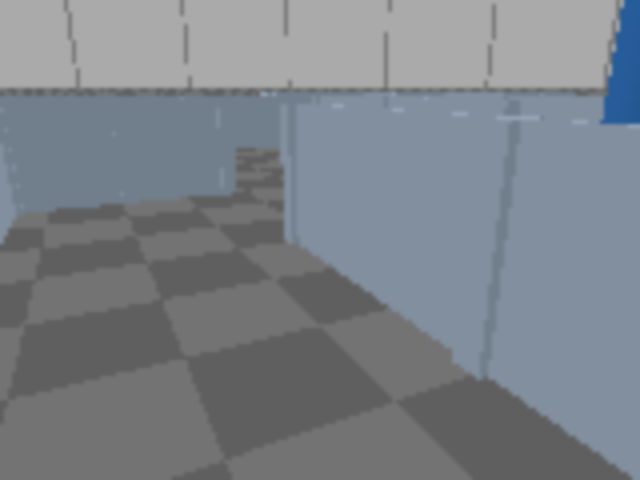person: (596, 0, 638, 234)
